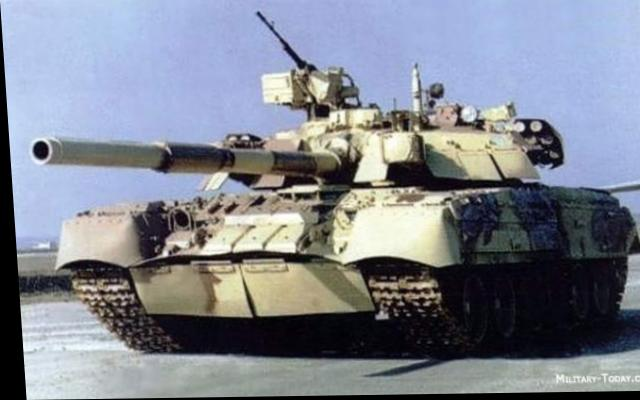tank: (27, 45, 640, 339)
